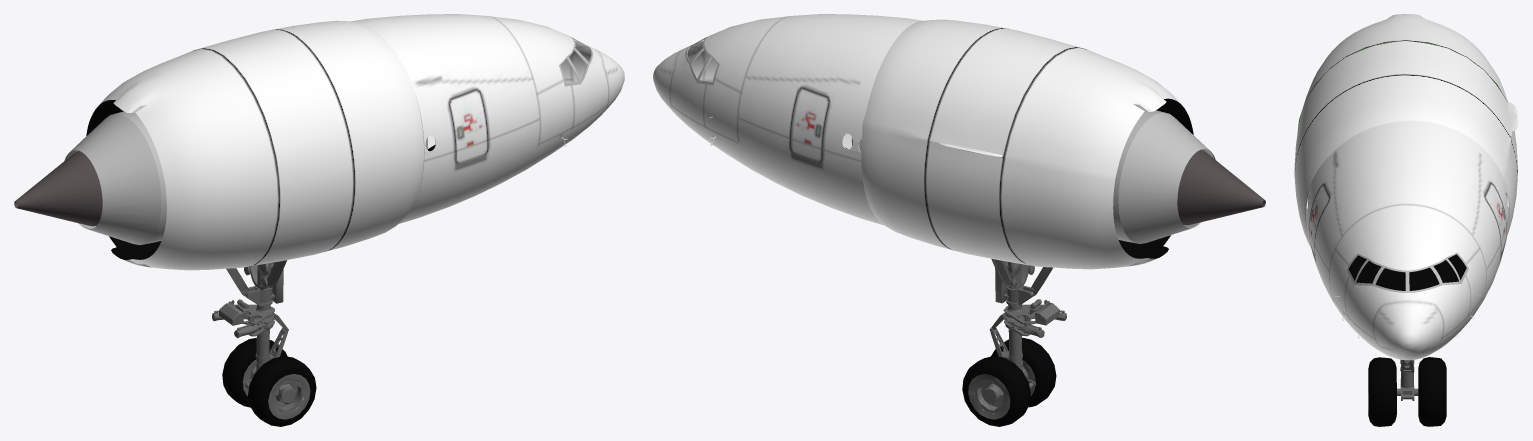
File: boeing7-2.glb
3 views of the same model, side by side, from view 1: azimuth 30°, elevation 25°; view 2: azimuth 150°, elevation 25°; view 3: azimuth 270°, elevation 25° (orthographic). The views are drawn at different scales.
Visible parts, largest first — view 1: frontGear; view 2: frontGear; view 3: frontGear.
Part boxes in pixels (box(x1,y1,x2,y2)): frontGear: box(14, 14, 624, 426); frontGear: box(653, 14, 1265, 426); frontGear: box(1294, 14, 1518, 426).
Bounding box in the file's own units: 10.81 × 6.3 × 3.53.
13 materials, 2 textured.
